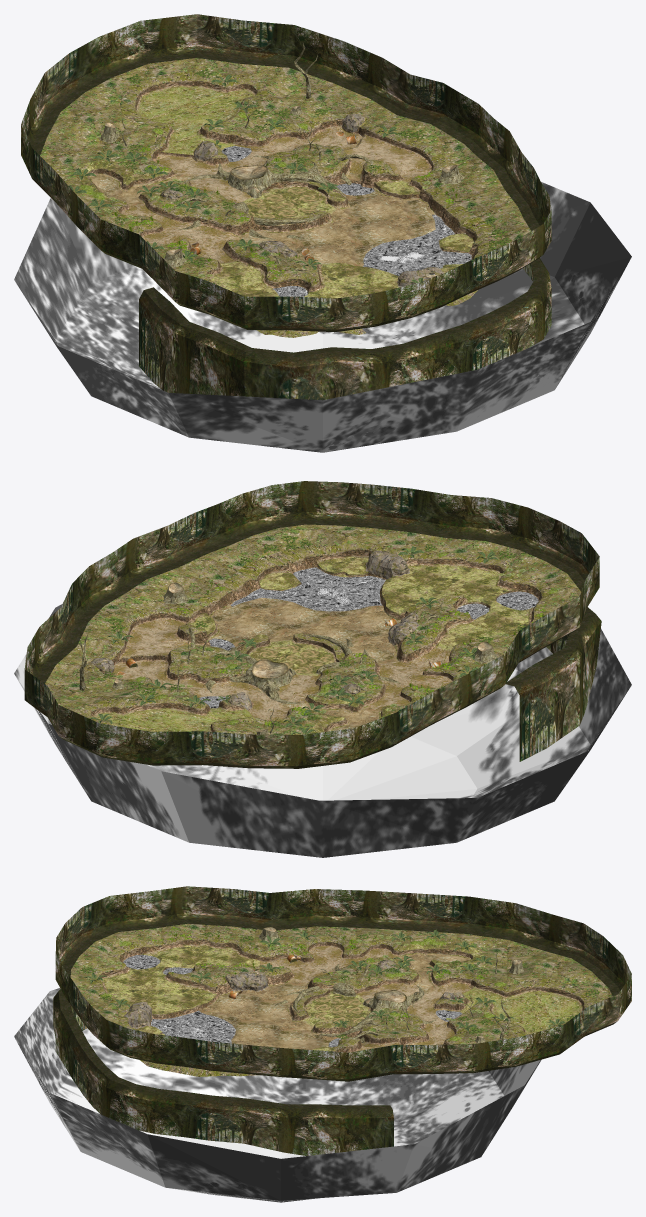
Rendered from The Forest of Hope.obj.
3 renders of one model, top to bottom at view 1: azimuth 30°, elevation 25°; view 2: azimuth 150°, elevation 25°; view 3: azimuth 270°, elevation 25°, orthographic. The views are drawn at different scales.
Visible parts, largest first — view 1: Mesh_0035; view 2: Mesh_0035; view 3: Mesh_0035.
Boxes of the visible parts, left/top/right/bottom form: Mesh_0035: left=14, top=14, right=631, bottom=452; Mesh_0035: left=14, top=481, right=631, bottom=857; Mesh_0035: left=14, top=886, right=631, bottom=1202.
Size of the model in its own units: 542 by 232 by 628.
Materials: 28 (28 with a texture image).
